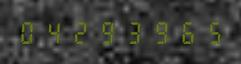five: (199, 20, 224, 44)
four: (43, 20, 68, 44)
nine: (95, 20, 120, 44), (147, 20, 172, 44)
six: (173, 20, 198, 44)
three: (121, 20, 146, 44)
two: (69, 20, 94, 44)
zero: (17, 20, 42, 44)
